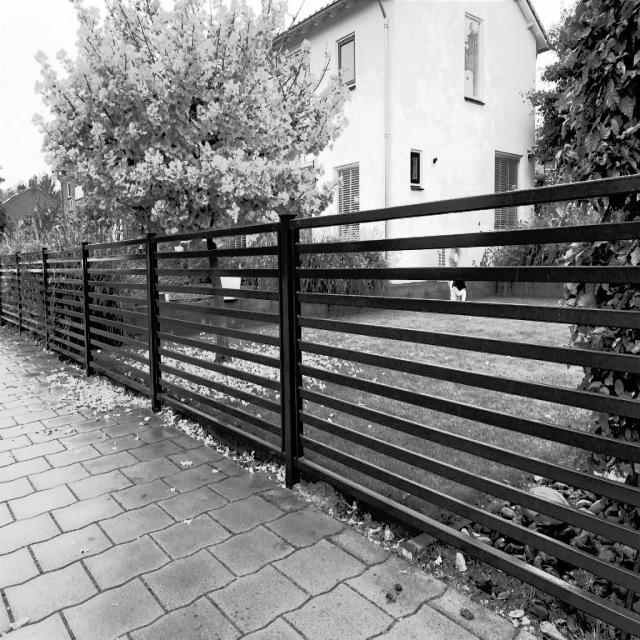fences: (284, 202, 640, 584), (81, 242, 274, 449), (11, 264, 74, 358)
